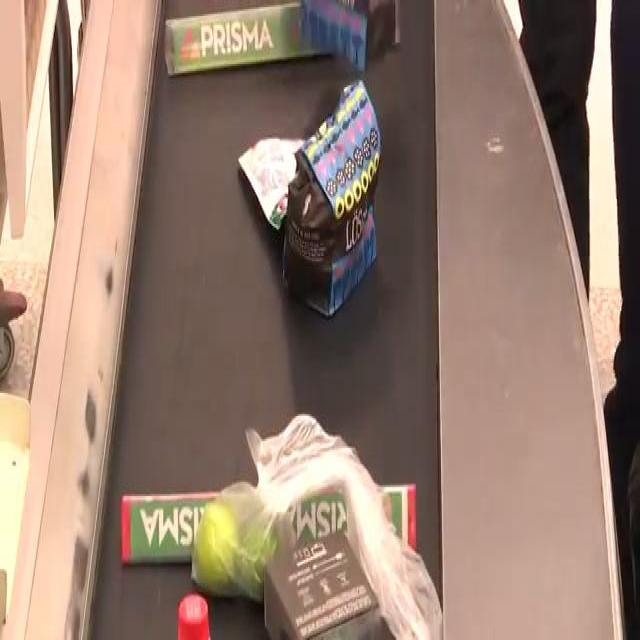food-box: (280, 90, 393, 322)
vegetable: (192, 468, 304, 604)
